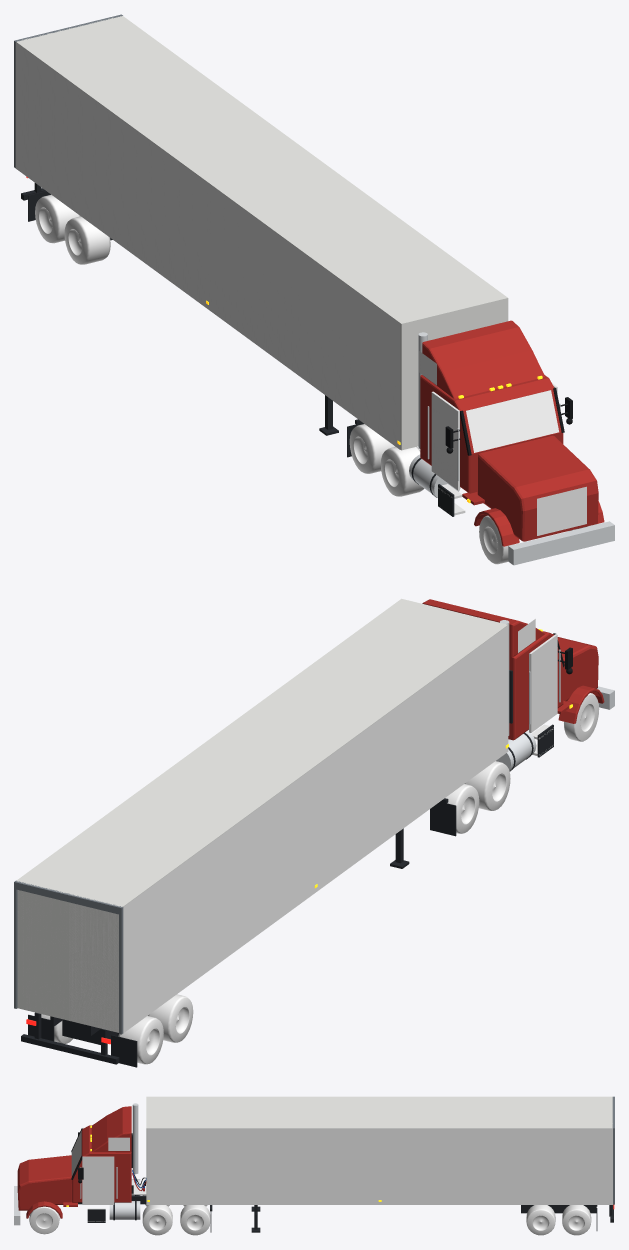
Rendered from fleet--tractorTrailer.glb.
The picture shows the model from 3 angles, top to bottom: view 1: azimuth 30°, elevation 25°; view 2: azimuth 150°, elevation 25°; view 3: azimuth 270°, elevation 25°; orthographic projection. The views are drawn at different scales.
Visible parts, largest first — view 1: trailer-dryVan:shell, semiTractor:shell, hood, axle2 (×2), doorR, axle1, axle3, wheelFR; view 2: trailer-dryVan:shell, doorR (×2), semiTractor:shell, axle2 (×2), hood, axle1, axle3, wheelFR; view 3: trailer-dryVan:shell, semiTractor:shell, hood, doorL, axle2 (×2), axle3, axle1, wheelFL.
Part boxes in pixels (x1,y1,x2,y2): trailer-dryVan:shell: (14, 14, 508, 450); semiTractor:shell: (347, 320, 614, 565); hood: (477, 435, 598, 541); axle2 (×2): (35, 194, 424, 496); doorR: (431, 391, 459, 490); axle1: (64, 216, 110, 264); axle3: (349, 424, 395, 473); wheelFR: (479, 515, 513, 564); trailer-dryVan:shell: (14, 598, 508, 1067); doorR (×2): (69, 634, 557, 1032); semiTractor:shell: (422, 599, 614, 836); axle2 (×2): (41, 761, 510, 1064); hood: (557, 637, 598, 701); axle1: (148, 994, 193, 1042); axle3: (445, 784, 479, 833); wheelFR: (564, 693, 599, 741); trailer-dryVan:shell: (144, 1096, 614, 1230); semiTractor:shell: (14, 1103, 212, 1232); hood: (17, 1155, 71, 1210); doorL: (82, 1156, 114, 1204); axle2 (×2): (142, 1195, 591, 1235); axle3: (180, 1205, 210, 1235); axle1: (526, 1205, 555, 1235); wheelFL: (29, 1206, 59, 1234).
Size of the model in its own units: 3.02 by 4.11 by 20.71.
